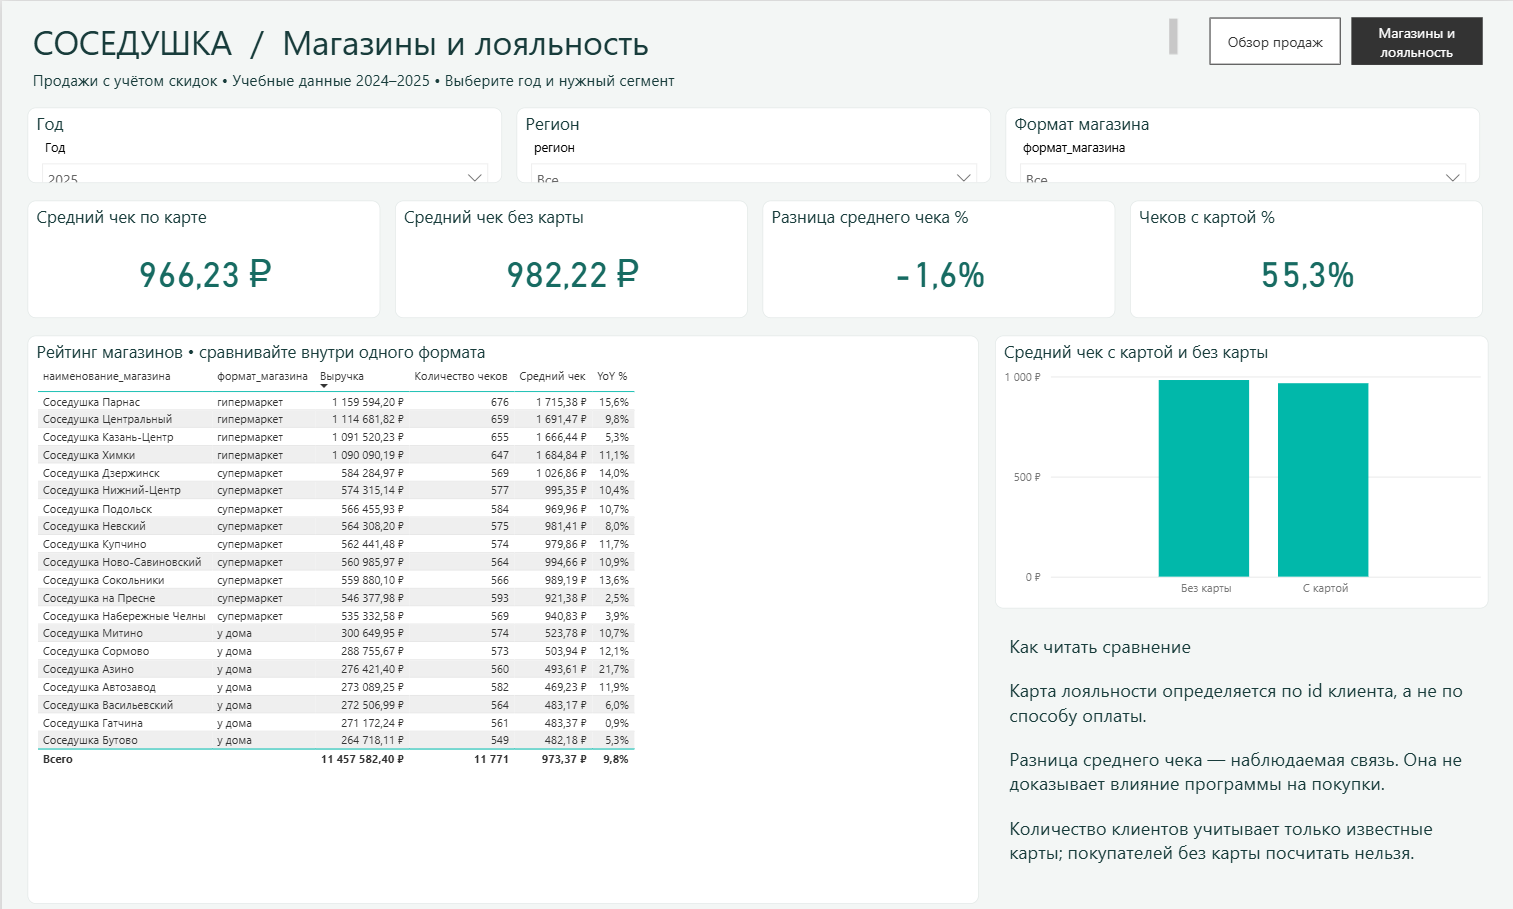

Layout of this report page (visuals, bound fields, positions):
{"tool":"powerbi","page":{"name":"Магазины и лояльность","canvas":[1440,900],"ordinal":1},"visuals":[{"type":"textbox","box":[24,12,1100,48],"z":0},{"type":"pageNavigator","box":[1150,16,260,45],"z":0},{"type":"textbox","box":[24,60,1380,30],"z":0},{"type":"slicer","title":"Год","fields":{"Values":["dim_calendar.Год"]},"box":[24,102,452,72],"z":0},{"type":"slicer","title":"Регион","fields":{"Values":["dim_stores.регион"]},"box":[490,102,452,72],"z":0},{"type":"slicer","title":"Формат магазина","fields":{"Values":["dim_stores.формат_магазина"]},"box":[956,102,452,72],"z":0},{"type":"card","title":"Средний чек по карте","fields":{"Values":["fact_sales.Средний чек по карте"]},"box":[24,190,336,112],"z":0},{"type":"card","title":"Средний чек без карты","fields":{"Values":["fact_sales.Средний чек без карты"]},"box":[374,190,336,112],"z":0},{"type":"card","title":"Разница среднего чека %","fields":{"Values":["fact_sales.Разница среднего чека %"]},"box":[724,190,336,112],"z":0},{"type":"card","title":"Чеков с картой %","fields":{"Values":["fact_sales.Чеков с картой %"]},"box":[1074,190,336,112],"z":0},{"type":"tableEx","title":"Рейтинг магазинов • сравнивайте внутри одного формата","fields":{"Values":["dim_stores.наименование_магазина","dim_stores.формат_магазина","fact_sales.Выручка","fact_sales.Количество чеков","fact_sales.Средний чек","fact_sales.YoY %"]},"box":[24,318,906,541],"z":0},{"type":"clusteredColumnChart","title":"Средний чек с картой и без карты","fields":{"Category":["fact_sales.Карта лояльности"],"Y":["fact_sales.Средний чек"]},"box":[946,318,470,260],"z":0},{"type":"textbox","box":[954,597,450,250],"z":0},{"type":"textbox","box":[24,867,1380,23],"z":0}]}

Visuals, with their boxes on the page's 1440x900 design canvas (x1, y1, x2, y2). These are canvas units, not pixel positions in the 1513x909 screenshot, which may show the page scaled, cropped or inside an application window:
textbox: x1=24, y1=12, x2=1124, y2=60
pageNavigator: x1=1150, y1=16, x2=1410, y2=61
textbox: x1=24, y1=60, x2=1404, y2=90
"Год" slicer: x1=24, y1=102, x2=476, y2=174
"Регион" slicer: x1=490, y1=102, x2=942, y2=174
"Формат магазина" slicer: x1=956, y1=102, x2=1408, y2=174
"Средний чек по карте" card: x1=24, y1=190, x2=360, y2=302
"Средний чек без карты" card: x1=374, y1=190, x2=710, y2=302
"Разница среднего чека %" card: x1=724, y1=190, x2=1060, y2=302
"Чеков с картой %" card: x1=1074, y1=190, x2=1410, y2=302
"Рейтинг магазинов • сравнивайте внутри одного формата" tableEx: x1=24, y1=318, x2=930, y2=859
"Средний чек с картой и без карты" clusteredColumnChart: x1=946, y1=318, x2=1416, y2=578
textbox: x1=954, y1=597, x2=1404, y2=847
textbox: x1=24, y1=867, x2=1404, y2=890
